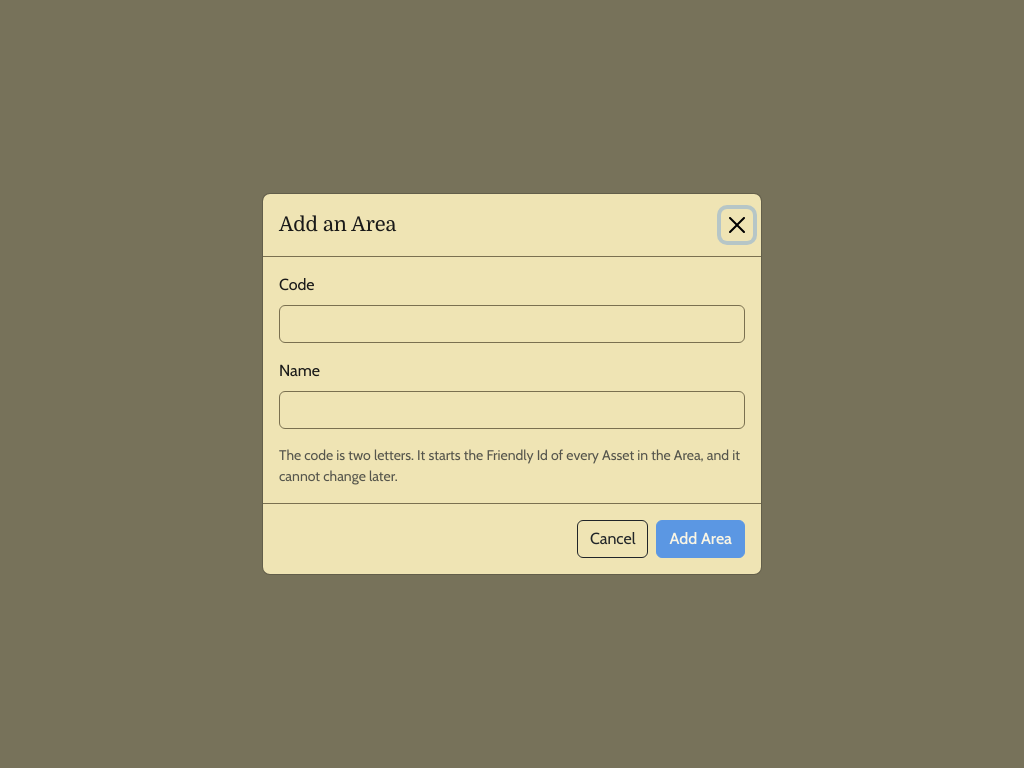
Scenario: needs a two-letter code and a name before it saves
The width and height of the screenshot is (1024, 768).
Expected: the button "Add Area" is disabled, x1=656 y1=520 x2=745 y2=558
Step 1. Type "M" into the field labelled "Code" → (512, 324), box x1=279 y1=305 x2=745 y2=343
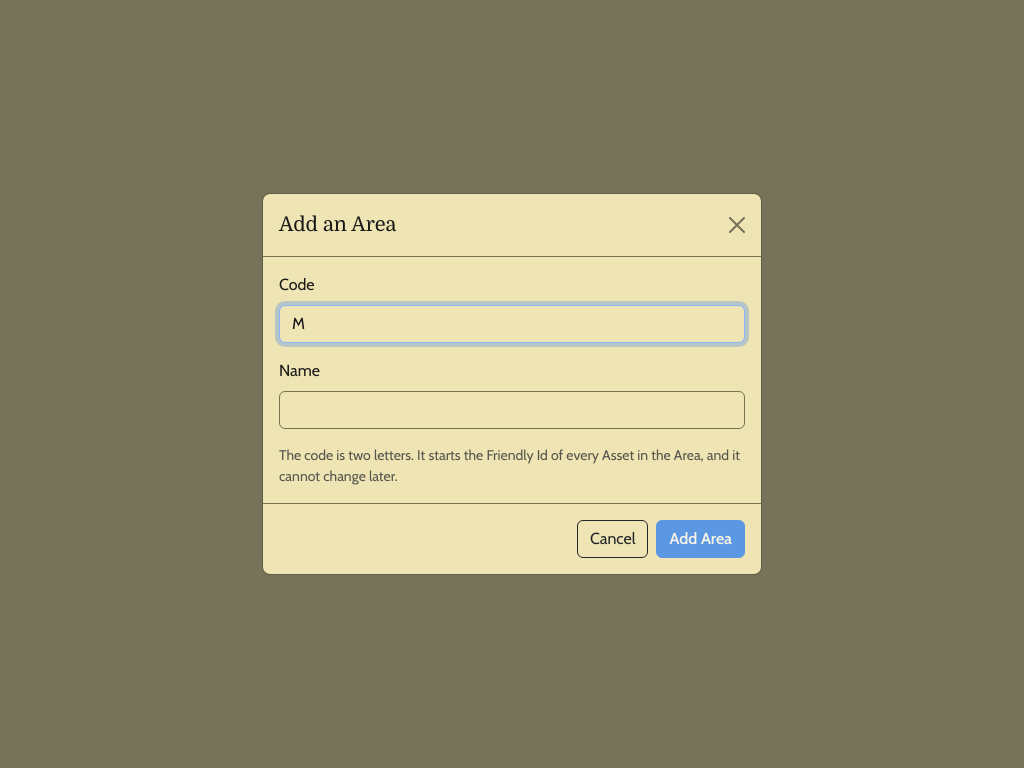
Step 2. Type "Manukau" into the field labelled "Name" → (512, 410), box x1=279 y1=391 x2=745 y2=429
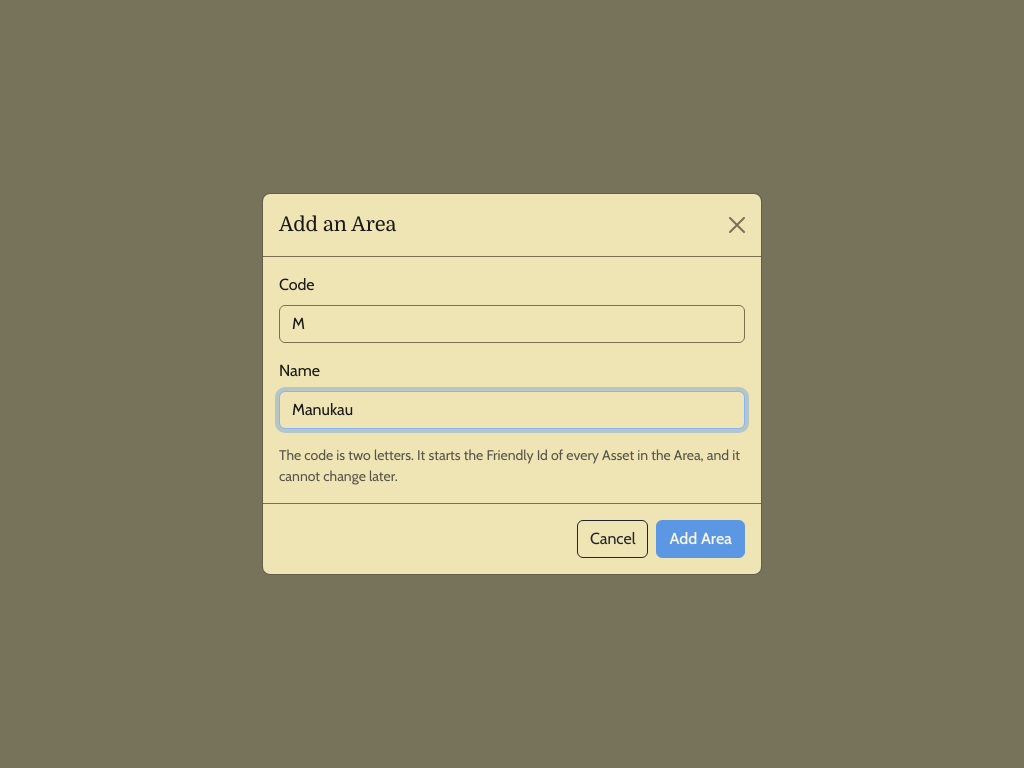
Expected: the button "Add Area" is disabled, x1=656 y1=520 x2=745 y2=558
Step 3. Type "N" into the field labelled "Code" → (512, 324), box x1=279 y1=305 x2=745 y2=343
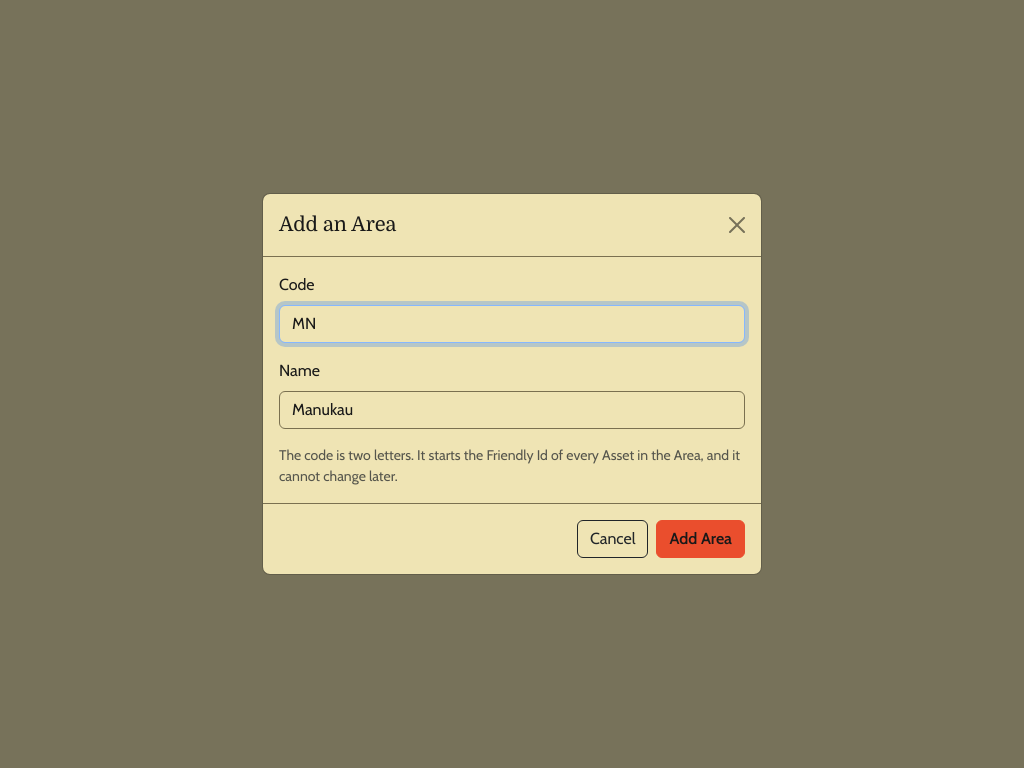
Result: the button "Add Area" is enabled at x1=656 y1=520 x2=745 y2=558
